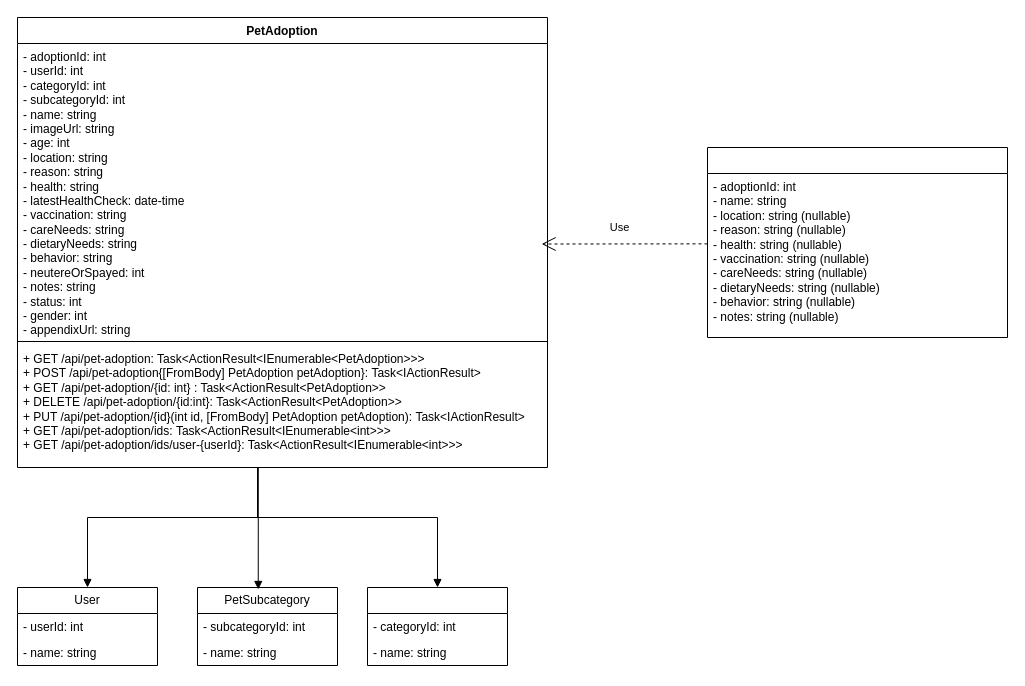
This 1025x686 diagram has some shape labels left out. The box of each missing label's shape, as (x1, y1, x2, y2) in pixels:
PetAdoptionSearchRequest: (706, 146, 1008, 338)
PetCategory: (366, 586, 508, 666)
